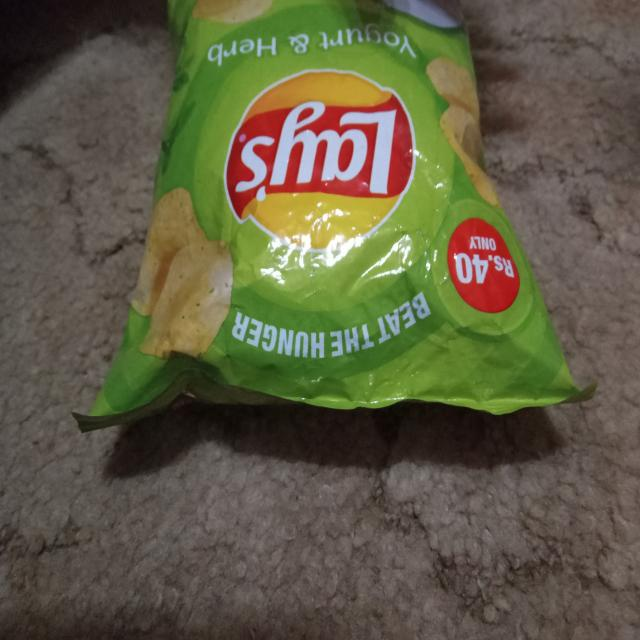Plastic: (55, 0, 597, 441)
